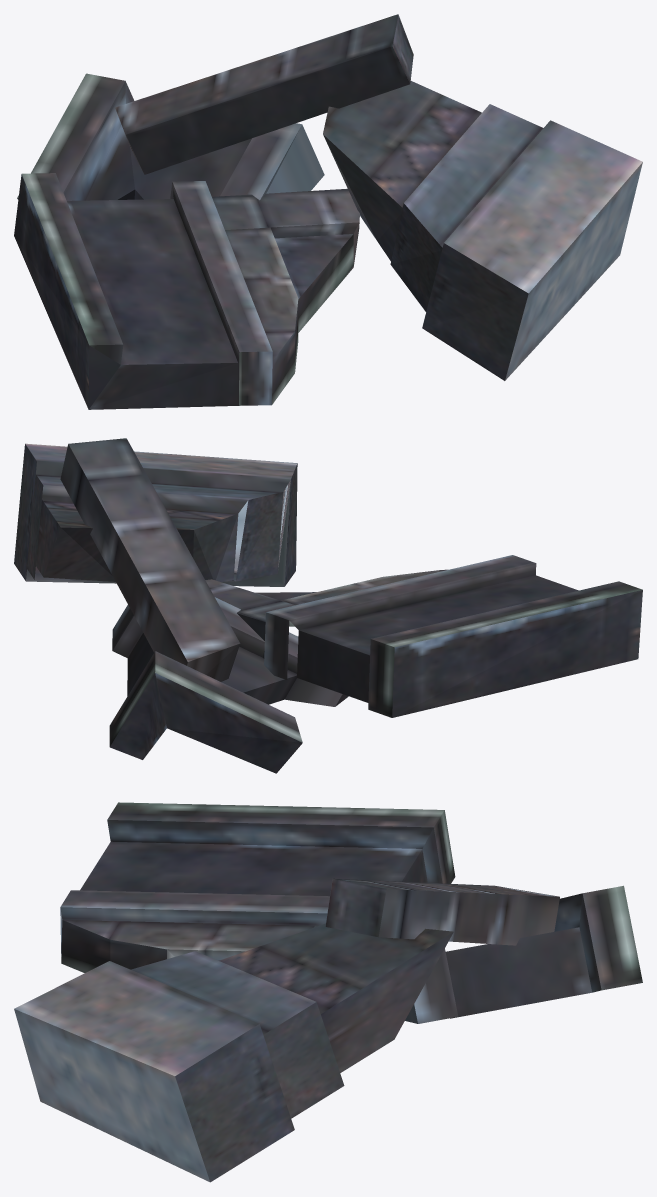
File: yw_anxizhidi_posuiqiang01.FBX
The picture shows the model from 3 angles, top to bottom: view 1: azimuth 30°, elevation 25°; view 2: azimuth 150°, elevation 25°; view 3: azimuth 270°, elevation 25°; orthographic projection. The views are drawn at different scales.
Visible parts, largest first — view 1: yw_anxizhidi_posuiqiang01; view 2: yw_anxizhidi_posuiqiang01; view 3: yw_anxizhidi_posuiqiang01.
Part boxes in pixels (x1,y1,x2,y2): yw_anxizhidi_posuiqiang01: (14, 14, 642, 409); yw_anxizhidi_posuiqiang01: (14, 438, 642, 773); yw_anxizhidi_posuiqiang01: (14, 802, 642, 1182).
Size of the model in its own units: 296 by 113 by 265.
Materials: 1 (1 with a texture image).
